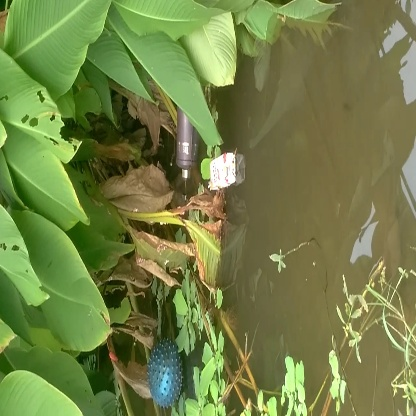ball: (141, 338, 187, 413)
bottle: (166, 100, 197, 186)
milk-box: (206, 151, 259, 198)
